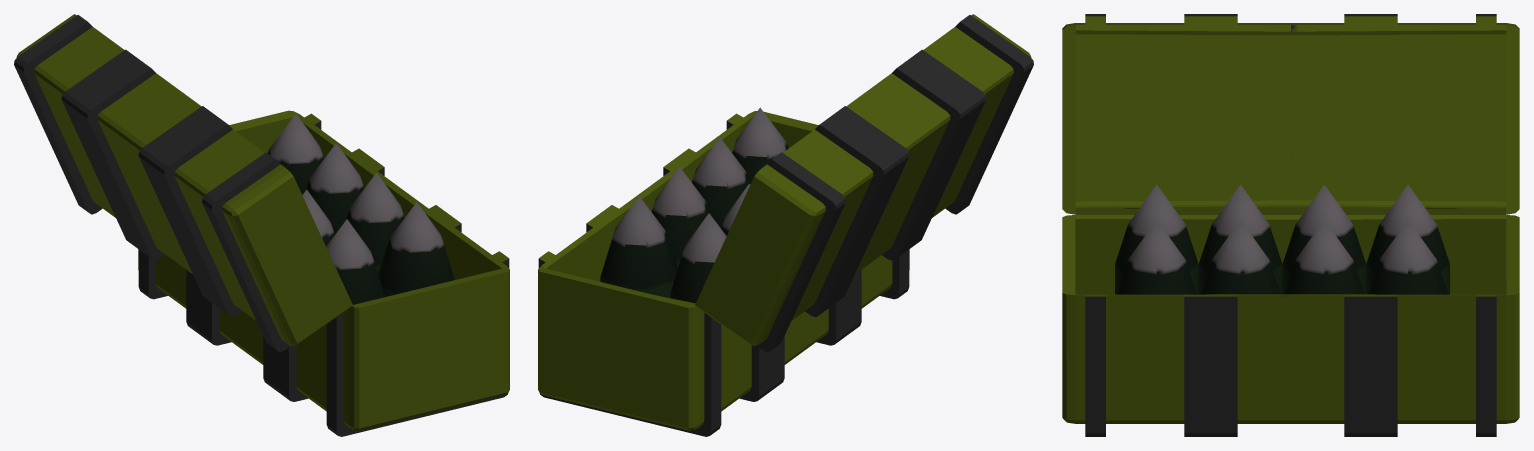
The model's file is AmmoBox.fbx.
3 views of the same model, side by side, from view 1: azimuth 30°, elevation 25°; view 2: azimuth 150°, elevation 25°; view 3: azimuth 270°, elevation 25° (orthographic). The views are drawn at different scales.
Visible parts, largest first — view 1: Cube.001, Cube, Rocket; view 2: Cube.001, Cube, Rocket; view 3: Cube.001, Cube, Rocket.
Boxes of the visible parts, bbox=[...] form: Cube.001: bbox=[14, 14, 352, 352]; Cube: bbox=[138, 110, 509, 436]; Rocket: bbox=[268, 114, 454, 304]; Cube.001: bbox=[695, 14, 1033, 352]; Cube: bbox=[538, 111, 909, 436]; Rocket: bbox=[600, 107, 788, 303]; Cube.001: bbox=[1062, 14, 1519, 214]; Cube: bbox=[1062, 215, 1519, 436]; Rocket: bbox=[1115, 184, 1449, 294].
Bounding box in the file's own units: 65.56 × 61.84 × 83.95.
